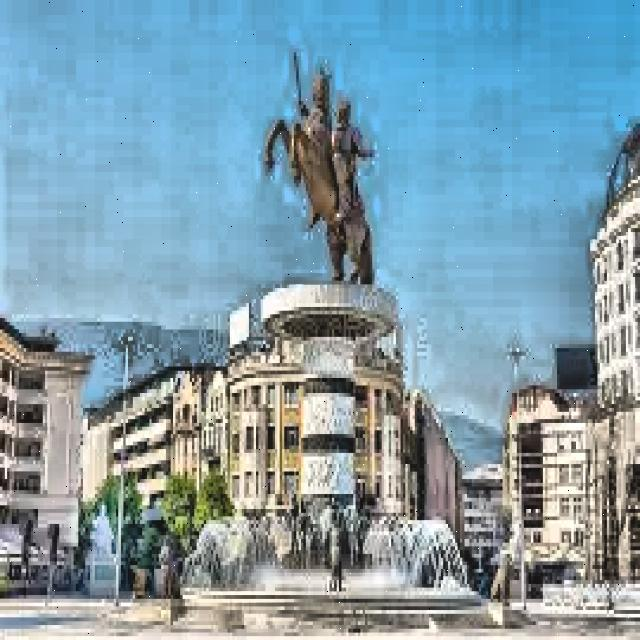alexander the great monument: (249, 49, 403, 607)
